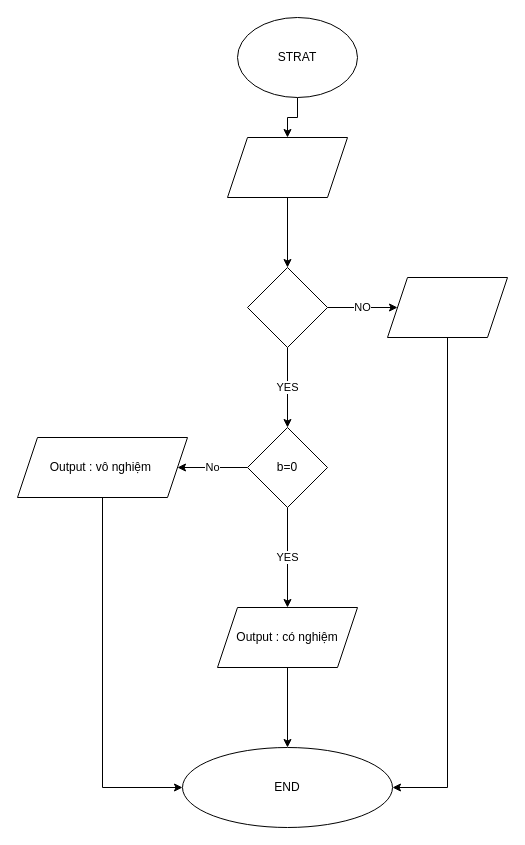
Image size: 525x845. Some labels were removed from this diagram. Here are the shapes that lost their labels. From the top down, the box of each, then its label:
(226, 136, 348, 198): Input a, b
(246, 266, 328, 348): a=0
(386, 276, 508, 338): Output : X= -b/a
